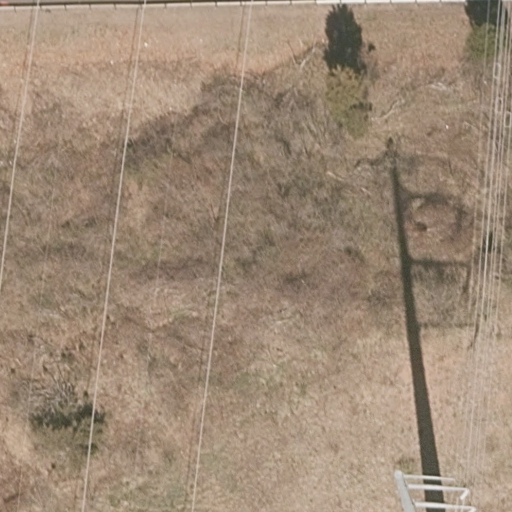TT: (391, 469, 475, 512)
